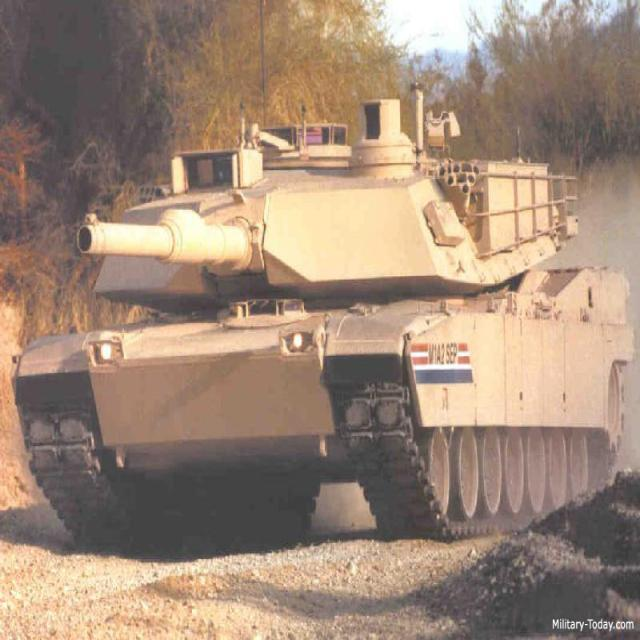Tank: (2, 47, 624, 540)
